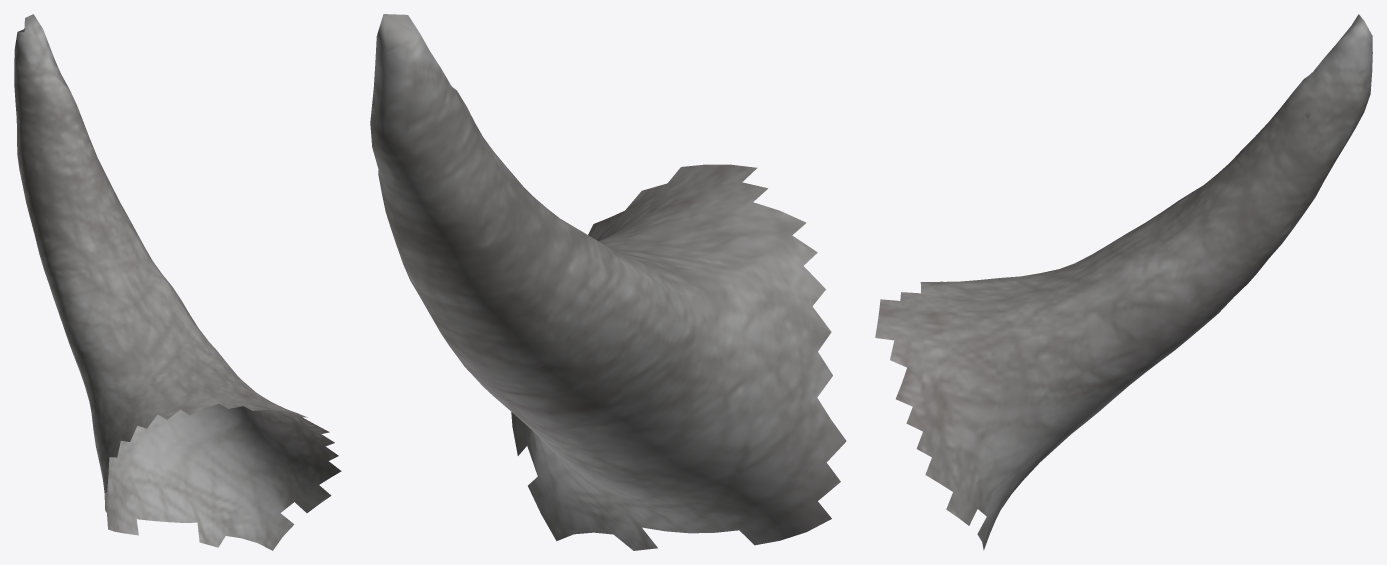
File: cola.obj
3 renders of one model, left to right at view 1: azimuth 30°, elevation 25°; view 2: azimuth 150°, elevation 25°; view 3: azimuth 270°, elevation 25°, orthographic. The views are drawn at different scales.
Visible parts, largest first — view 1: cola; view 2: cola; view 3: cola.
Boxes of the visible parts, box(x1,y1,x2,y2) form: cola: box(14, 14, 341, 550); cola: box(370, 14, 846, 550); cola: box(875, 14, 1372, 550).
Bounding box in the file's own units: 1.08 × 2.17 × 1.99.
Materials: 1 (1 with a texture image).
